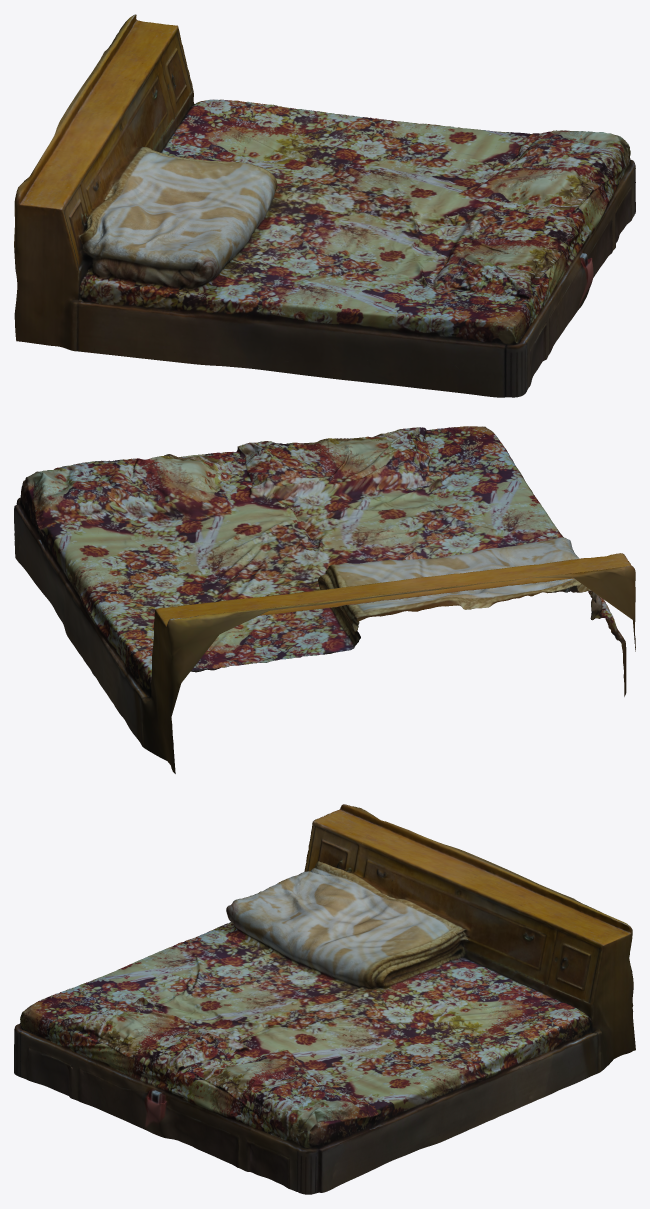
Rendered from bed_scan.glb.
The picture shows the model from 3 angles, top to bottom: view 1: azimuth 30°, elevation 25°; view 2: azimuth 150°, elevation 25°; view 3: azimuth 270°, elevation 25°; orthographic projection. The views are drawn at different scales.
Parts seen in each view (by area): view 1: 3DModel.obj; view 2: 3DModel.obj; view 3: 3DModel.obj.
Boxes of the visible parts, bbox=[...] form: 3DModel.obj: bbox=[14, 14, 635, 397]; 3DModel.obj: bbox=[14, 426, 635, 773]; 3DModel.obj: bbox=[14, 804, 635, 1194].
Size of the model in its own units: 2.25 by 0.5178 by 2.25.
Materials: 1 (1 with a texture image).
